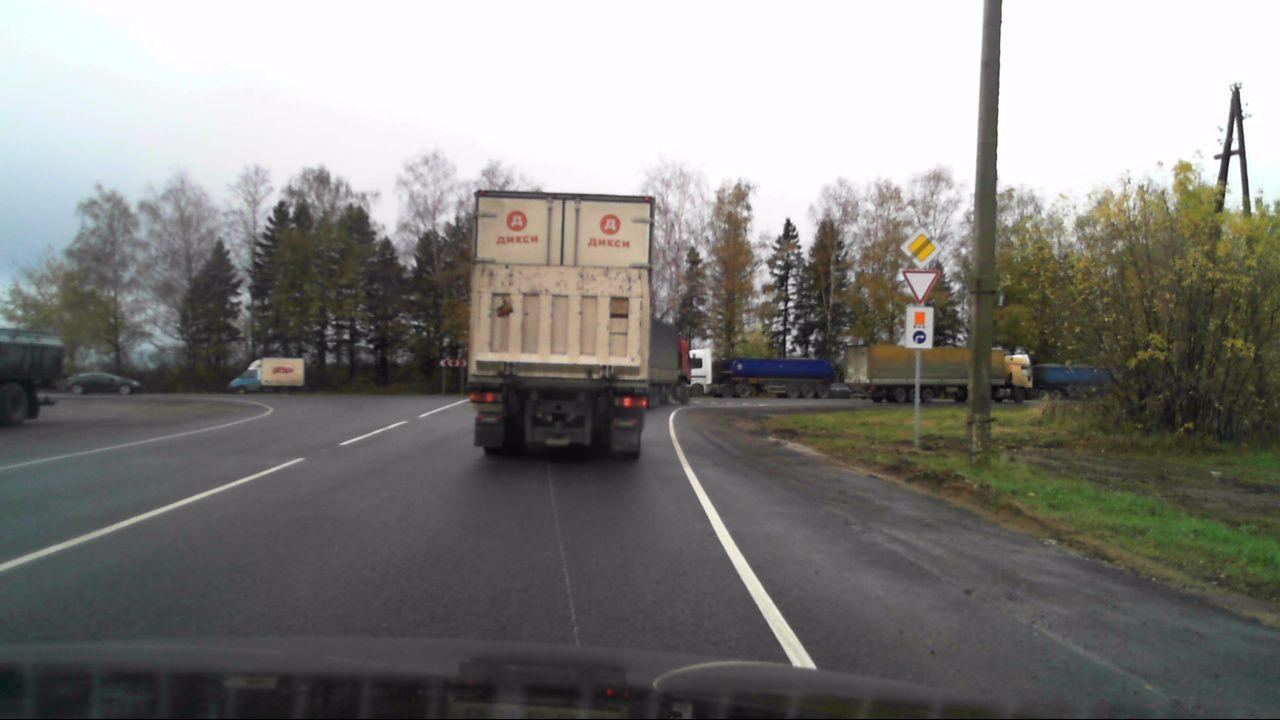2_2: (900, 225, 943, 265)
2_4: (900, 266, 942, 303)
4_8_2: (904, 306, 933, 349)
